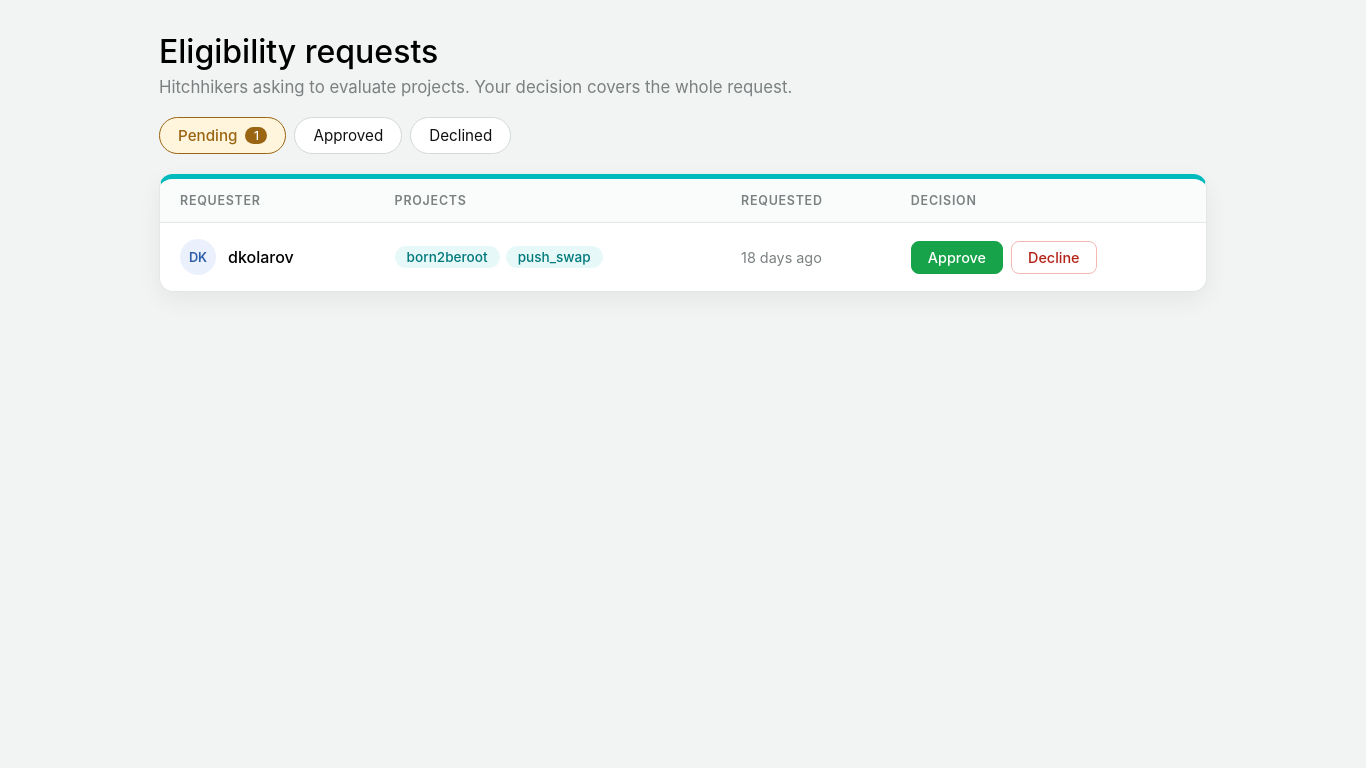
Test case: EligibilityReviewPage › closes the dialog and explains on the page when another Head Tutor was faster
Click the button with aria-label "Approve dkolarov's request" at {"x": 957, "y": 257}, box [911,240,1003,274]
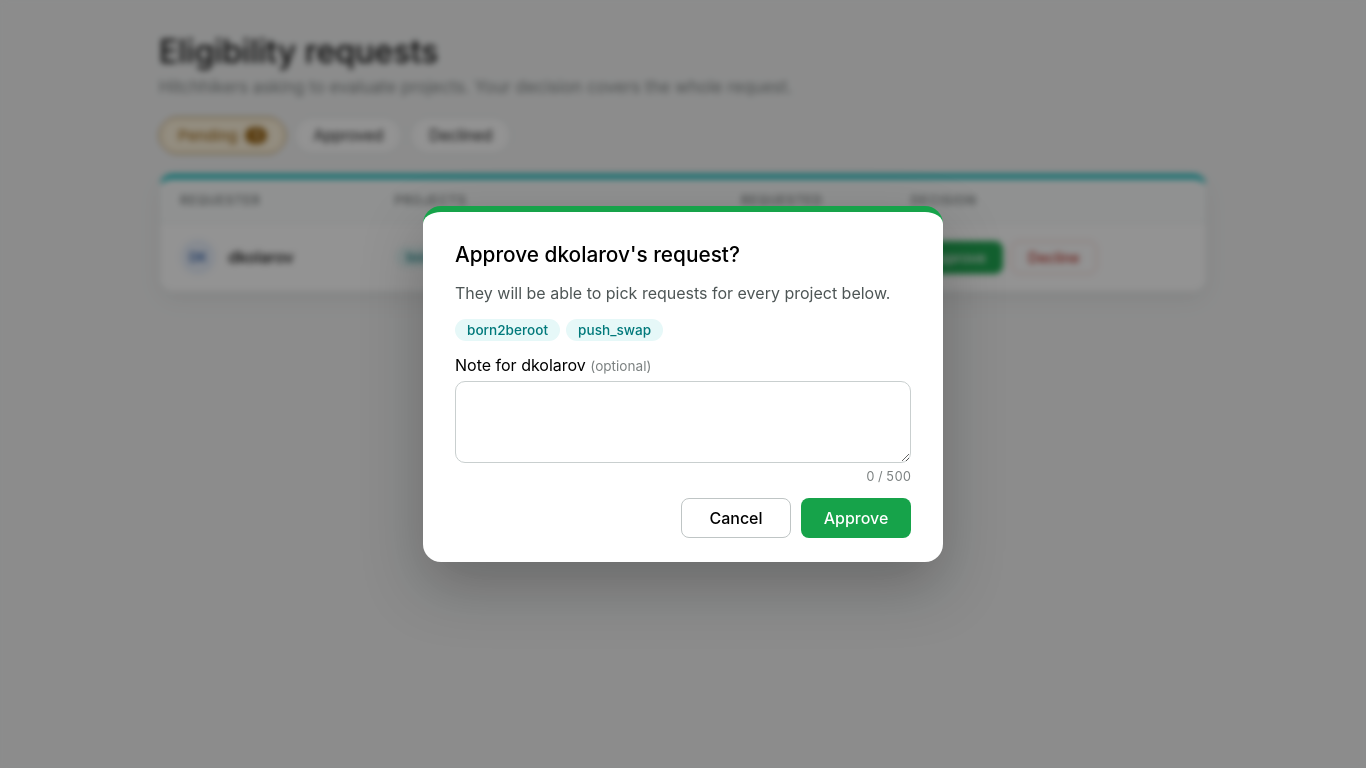
Click the button "Approve" at {"x": 856, "y": 518}, box [801,498,911,538]
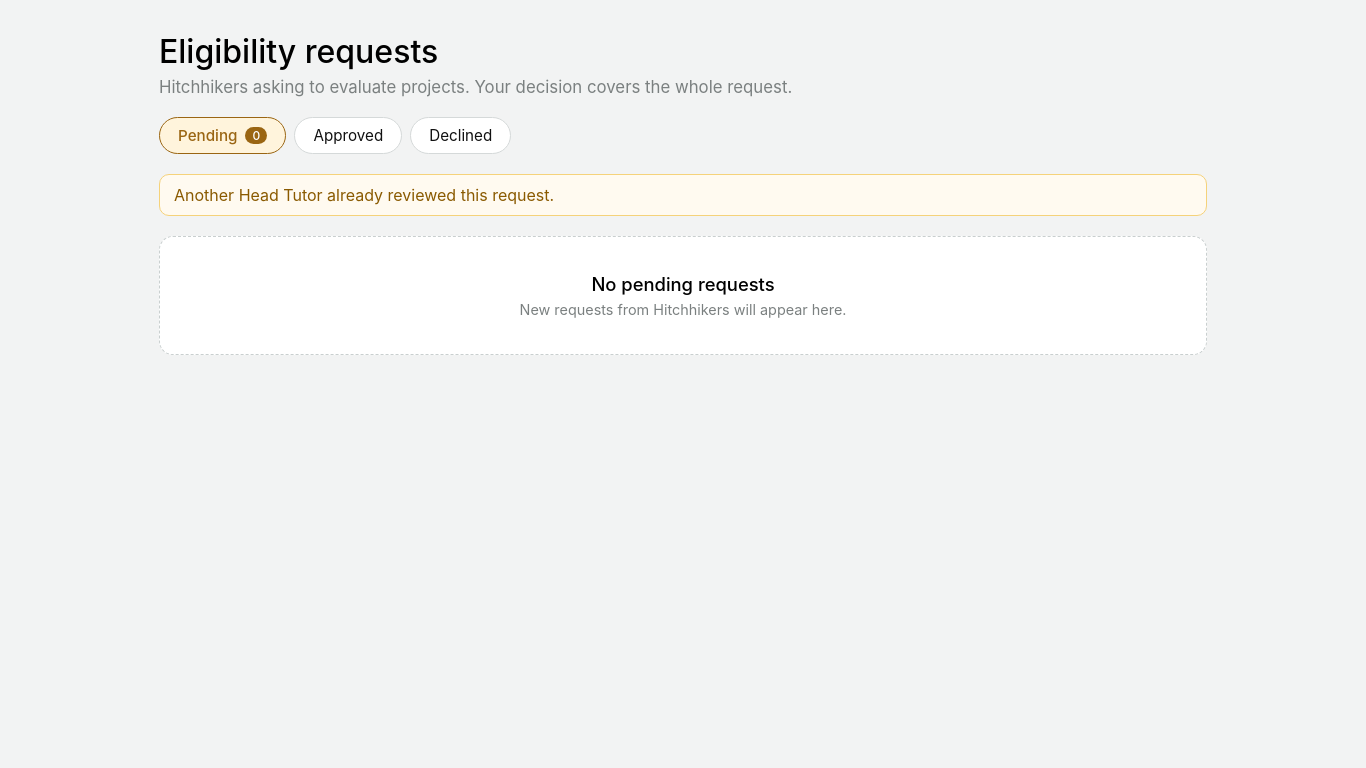
Check: the message reads "Another Head Tutor already reviewed this request.", box [174,185,554,205]
Check: the dialog is gone
Check: the heading "No pending requests" is shown, box [591,273,775,295]
